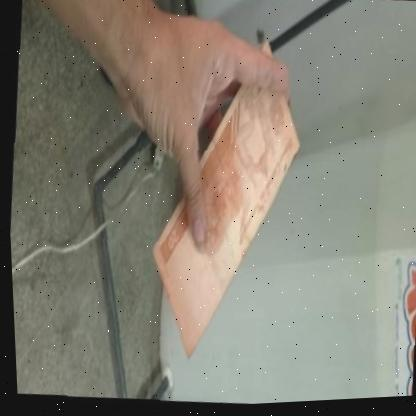twenty-back-vef: (131, 29, 316, 372)
